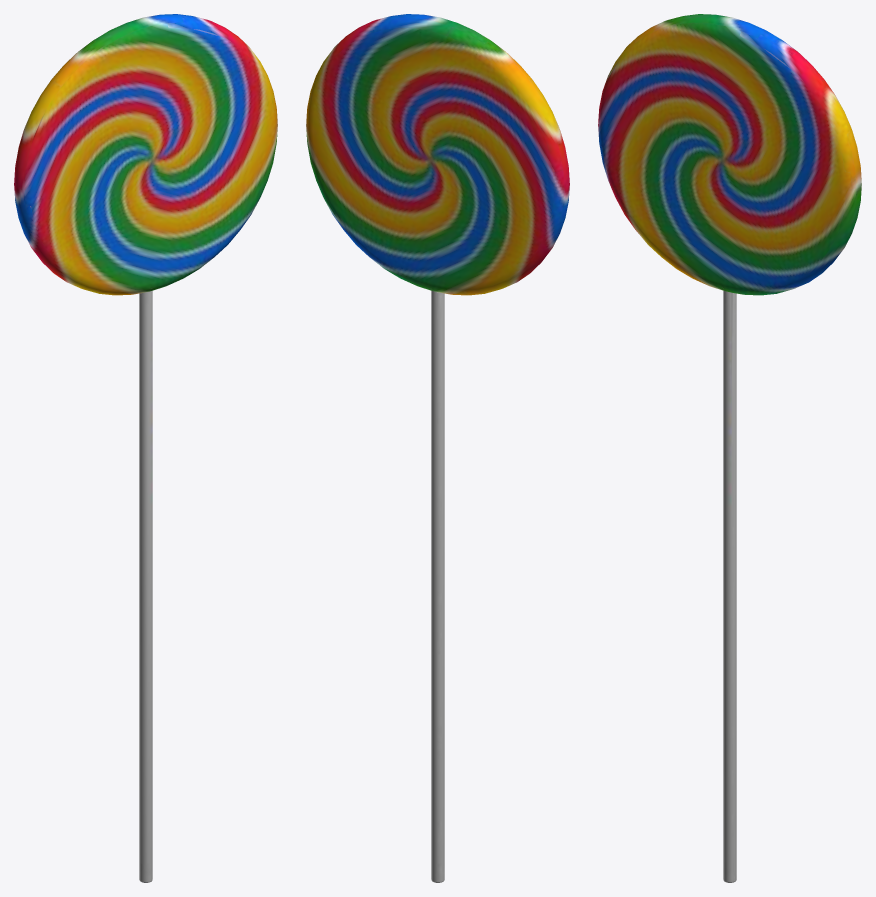
File: candy.glb
The picture shows the model from 3 angles, left to right: view 1: azimuth 30°, elevation 25°; view 2: azimuth 150°, elevation 25°; view 3: azimuth 330°, elevation 25°; orthographic projection.
Size of the model in its own units: 0.3158 by 1 by 0.0296.
1 material, 1 textured.
